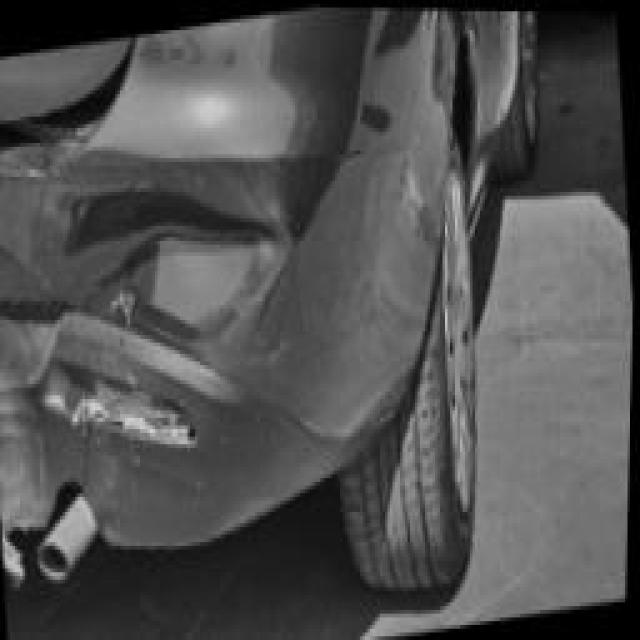Bumper: (0, 75, 451, 558)
